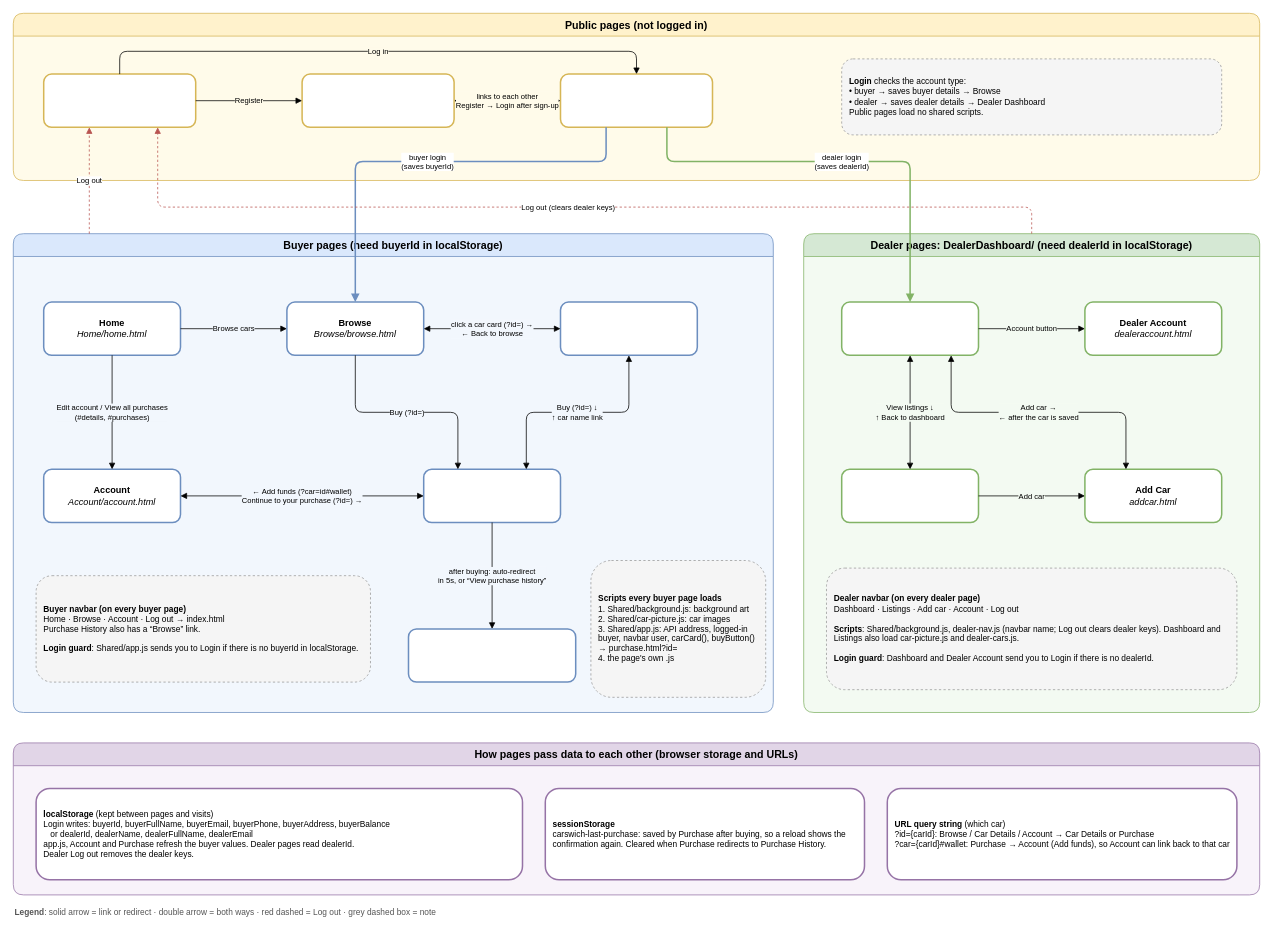
The diagram is 1273 pixels wide and 931 high, and some of its shapes have lost their labels. Here are the shapes that lost their labels. From the top down, the centre of each, then its label:
At point 119,100: "Landing index.html".
At point 377,100: "Register Register/register.html".
At point 636,100: "Login Login/login.html".
At point 628,328: "Car Details CarDetails/car-details.html".
At point 910,328: "Dashboard dashboard.html".
At point 492,495: "Purchase Purchase/purchase.html".
At point 910,495: "Listings listings.html".
At point 491,655: "Purchase History PurchaseHistory/purchase-history.html".
